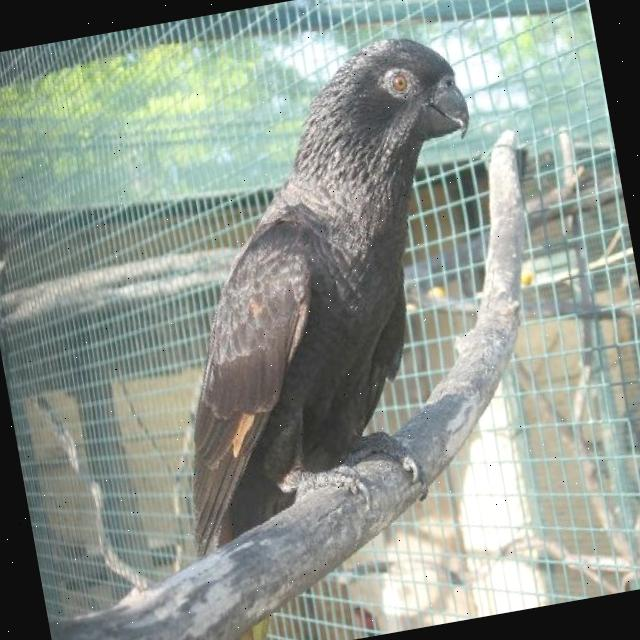Nuri Hitam: (88, 0, 555, 579)
